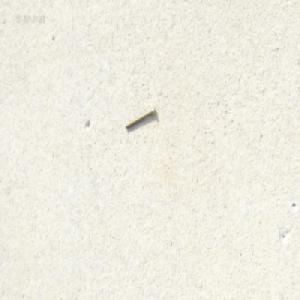Bolt: (124, 104, 155, 129)
